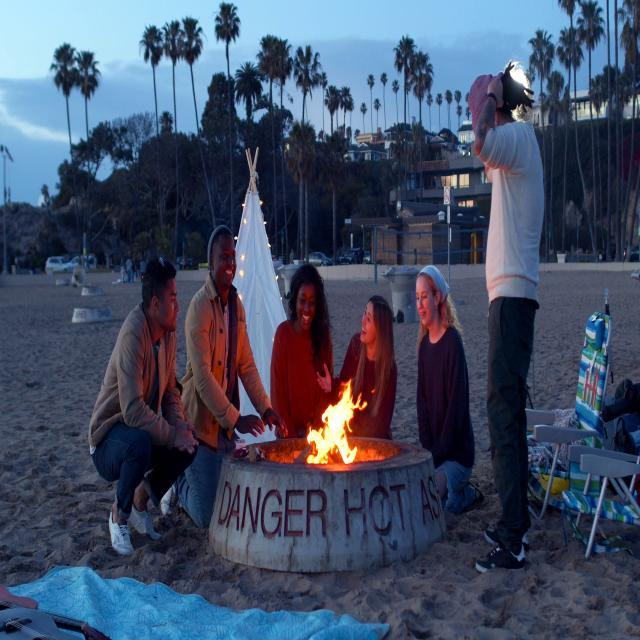Fire: (303, 372, 368, 468)
